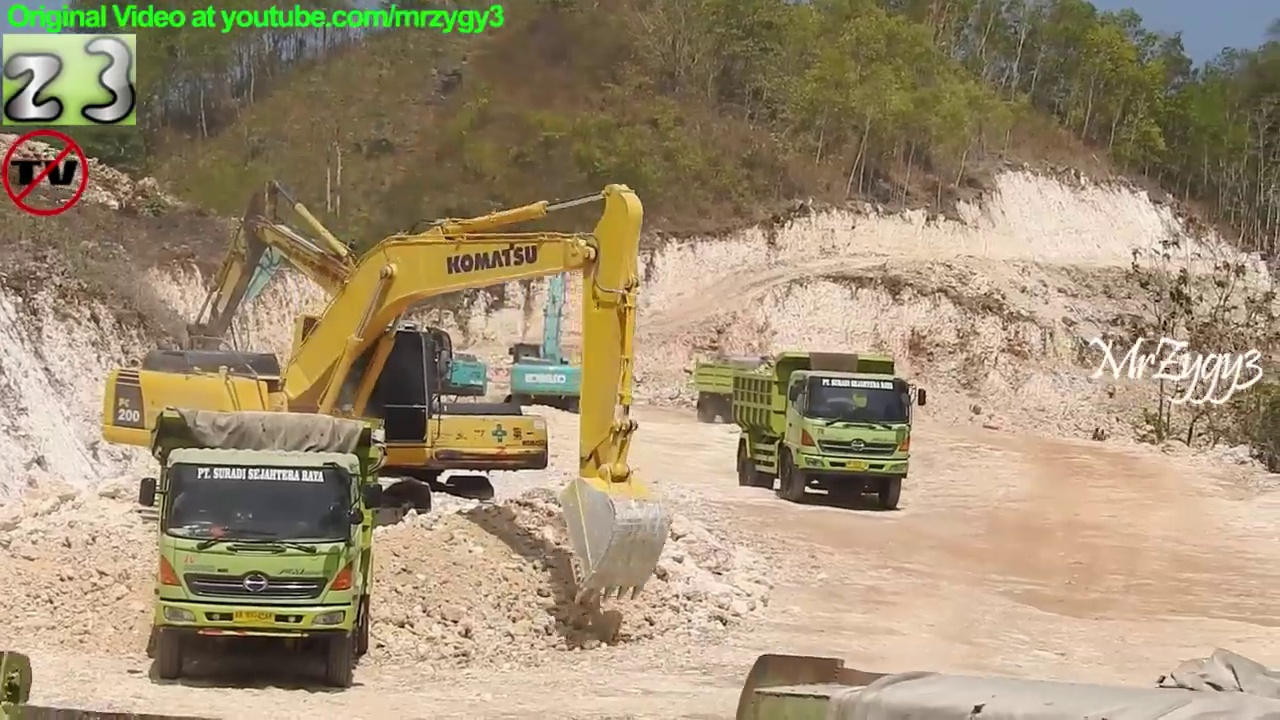excavator: (99, 182, 671, 603), (162, 179, 550, 520), (206, 228, 496, 447), (500, 250, 599, 423)
truck: (1, 645, 1280, 720), (136, 406, 392, 696), (733, 351, 931, 516), (691, 345, 792, 437)
